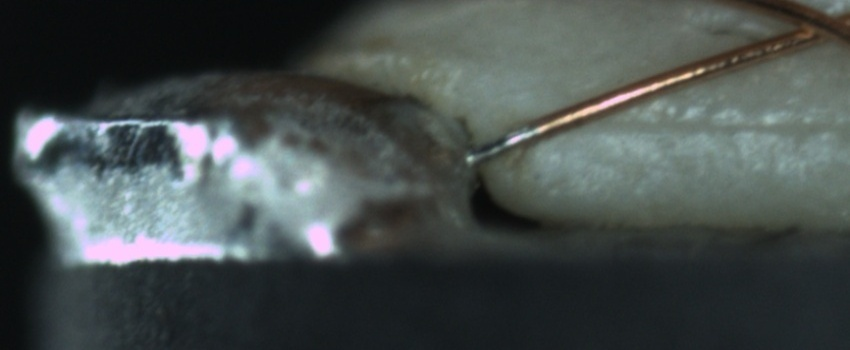CL: (766, 3, 850, 53)
DL: (570, 94, 840, 157)
TS: (464, 123, 538, 166)
